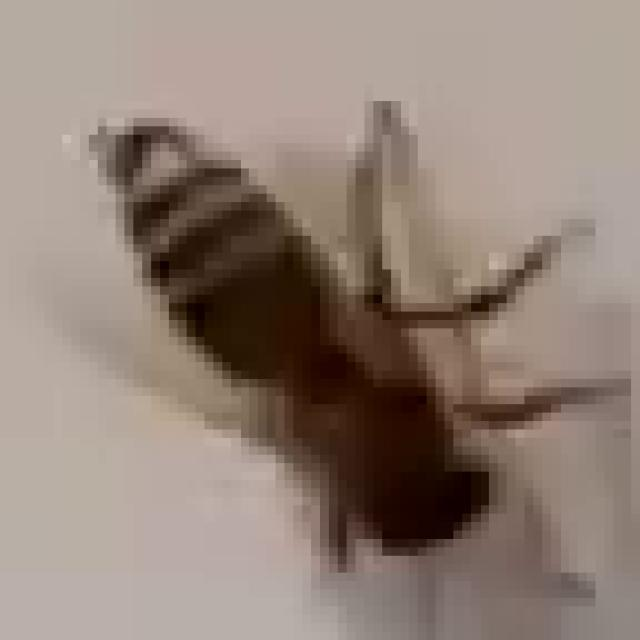honeybee: (55, 64, 555, 535)
